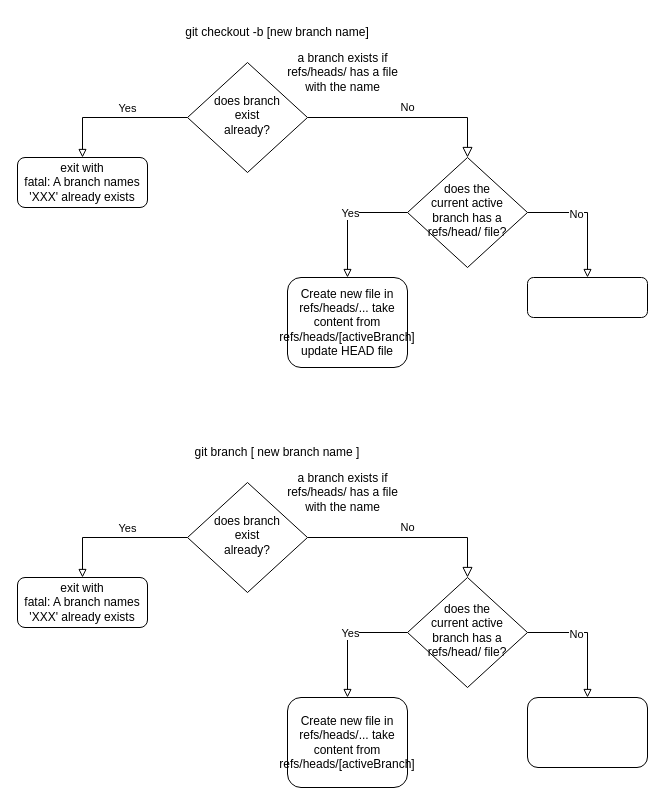
The diagram is 665 pixels wide and 805 high, and some of its shapes have lost their labels. The centre of each missing label's shape, as x and y in pixels:
"No, exit with error: fatal: Not a valid object name: 'oldBranchName'" belongs at point (587, 732).
"Update HEAD, don't create refs/heads file" belongs at point (587, 297).
